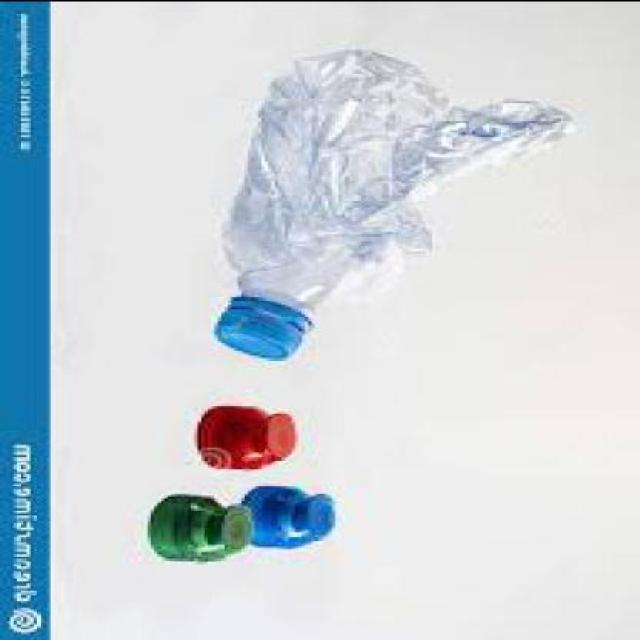PLASTIC: (225, 53, 586, 361), (150, 497, 252, 563), (214, 298, 315, 362), (197, 407, 298, 470), (244, 487, 338, 548)
